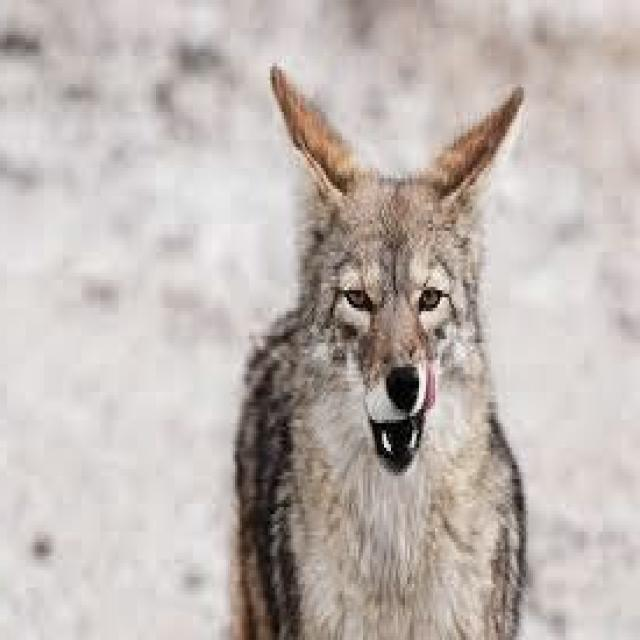coyote: (228, 66, 528, 637)
